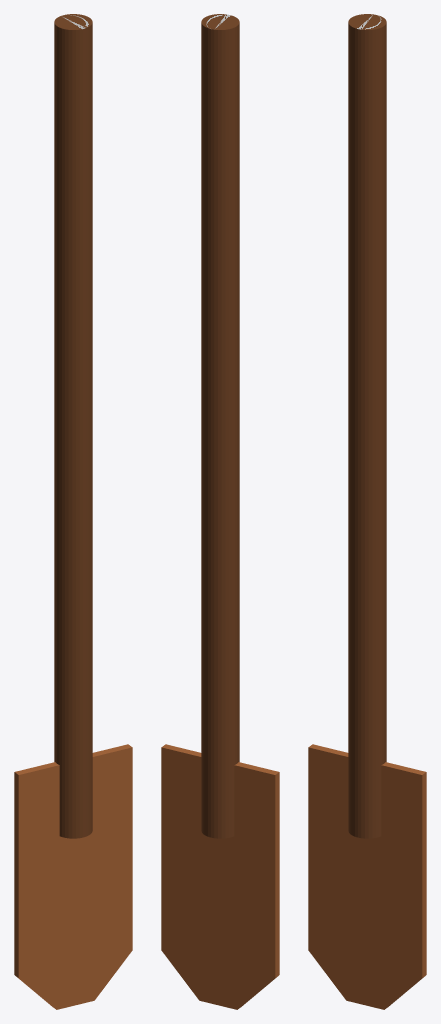
File: Oar 2.fbx
3 renders of one model, left to right at view 1: azimuth 30°, elevation 25°; view 2: azimuth 150°, elevation 25°; view 3: azimuth 330°, elevation 25°, orthographic.
Parts seen in each view (by area): view 1: Cube; view 2: Cube; view 3: Cube.
Boxes of the visible parts, left/top/right/bottom form: Cube: left=14, top=14, right=132, bottom=1009; Cube: left=161, top=14, right=279, bottom=1009; Cube: left=308, top=14, right=426, bottom=1009.
Size of the model in its own units: 29.25 by 241 by 8.52.
